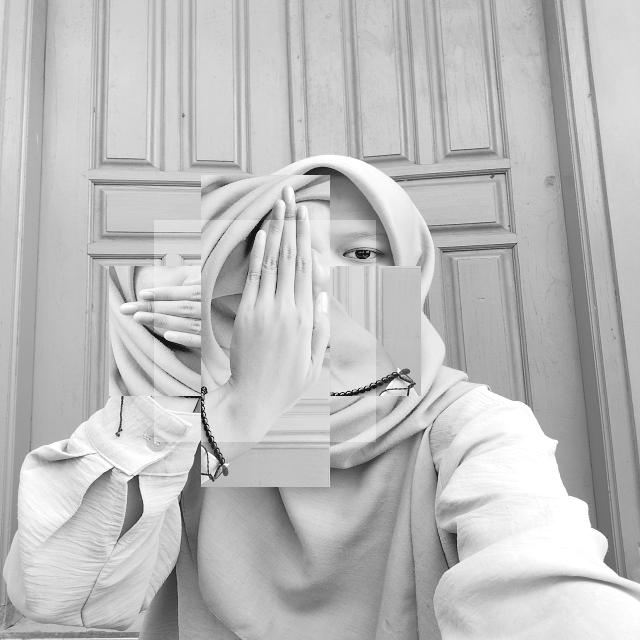buruk: (154, 220, 376, 442)
